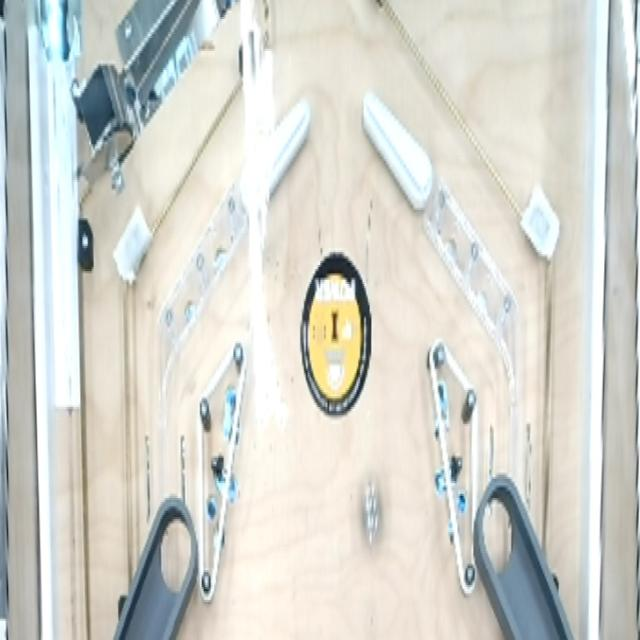ball: (356, 468, 392, 556)
flipper-left: (361, 79, 436, 215)
flipper-right: (235, 89, 312, 228)
